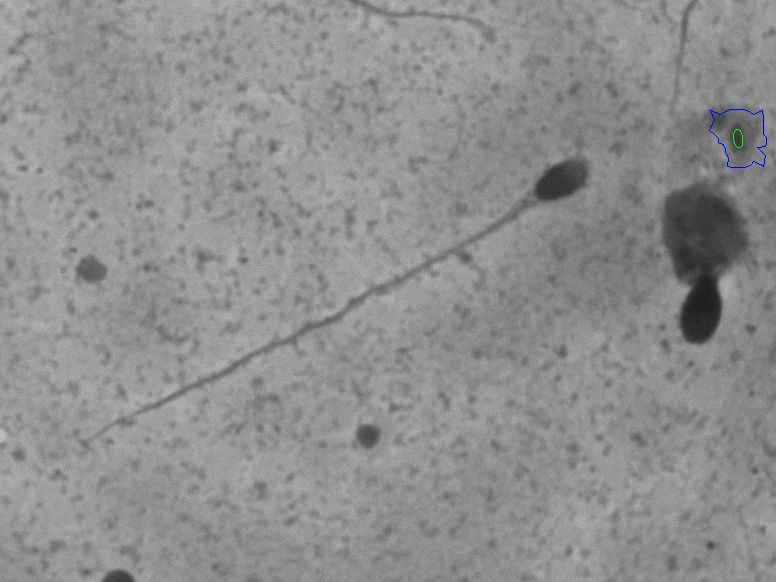Normal: (69, 140, 607, 465)
